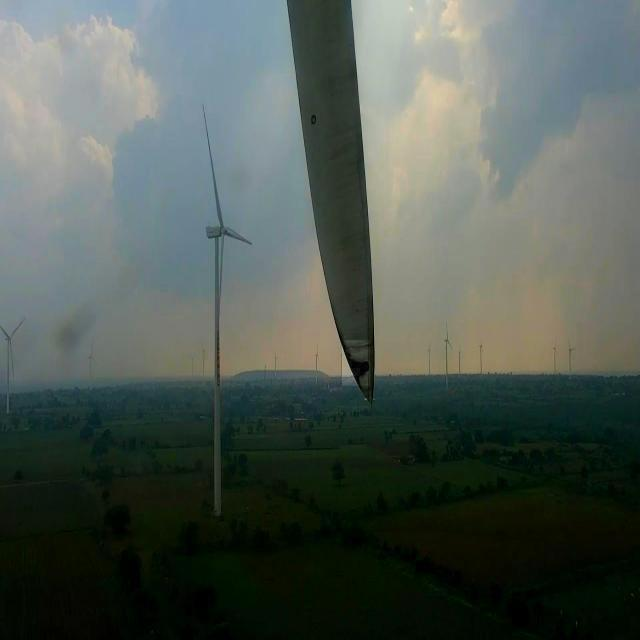Pin_Hole: (306, 112, 323, 127)
oil_leakage: (342, 340, 370, 386)
